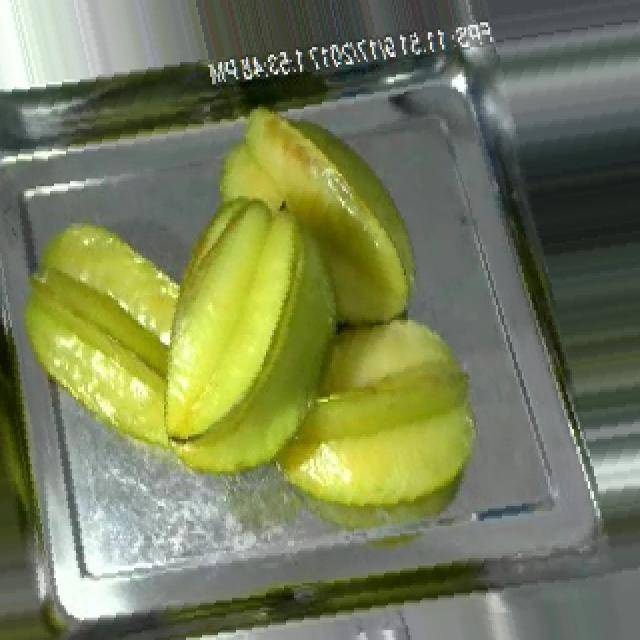fruit: (128, 171, 418, 526), (2, 194, 196, 476)
